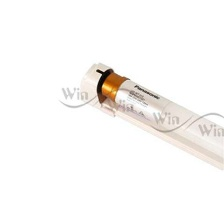light_bulb: (76, 56, 224, 174)
